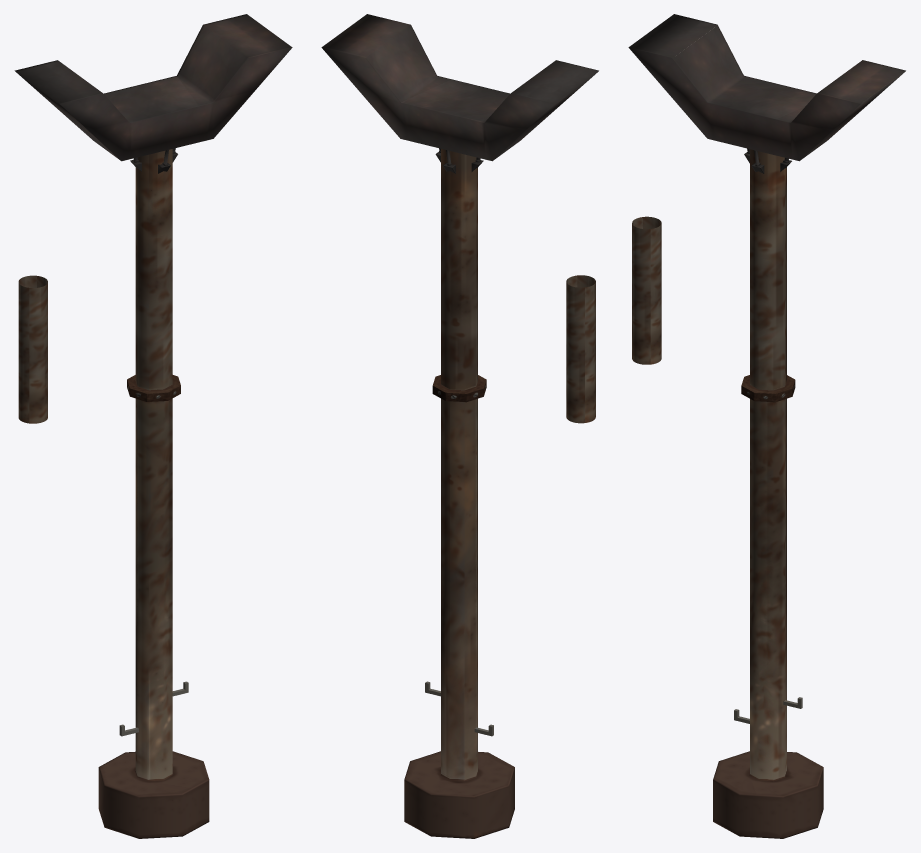
The model's file is Pilastra 1.fbx.
3 views of the same model, side by side, from view 1: azimuth 30°, elevation 25°; view 2: azimuth 150°, elevation 25°; view 3: azimuth 330°, elevation 25° (orthographic).
Visible parts, largest first — view 1: Pilastra_Superior, Pilastra_Fundacao, Pilastra_Mastro, Pilastra_Solda; view 2: Pilastra_Superior, Pilastra_Fundacao, Pilastra_Mastro, Pilastra_Solda; view 3: Pilastra_Superior, Pilastra_Fundacao, Pilastra_Mastro, Pilastra_Solda.
Part boxes in pixels (x1,y1,x2,y2): Pilastra_Superior: (14,14,292,390); Pilastra_Fundacao: (98,398,209,838); Pilastra_Mastro: (18,275,47,423); Pilastra_Solda: (127,375,180,401); Pilastra_Superior: (321,14,598,390); Pilastra_Fundacao: (404,398,514,838); Pilastra_Mastro: (566,275,595,423); Pilastra_Solda: (432,375,486,402); Pilastra_Superior: (628,14,905,390); Pilastra_Fundacao: (713,398,823,838); Pilastra_Mastro: (632,216,661,364); Pilastra_Solda: (741,375,795,402).
Size of the model in its own units: 1397 by 4049 by 555.
1 material, 1 textured.
